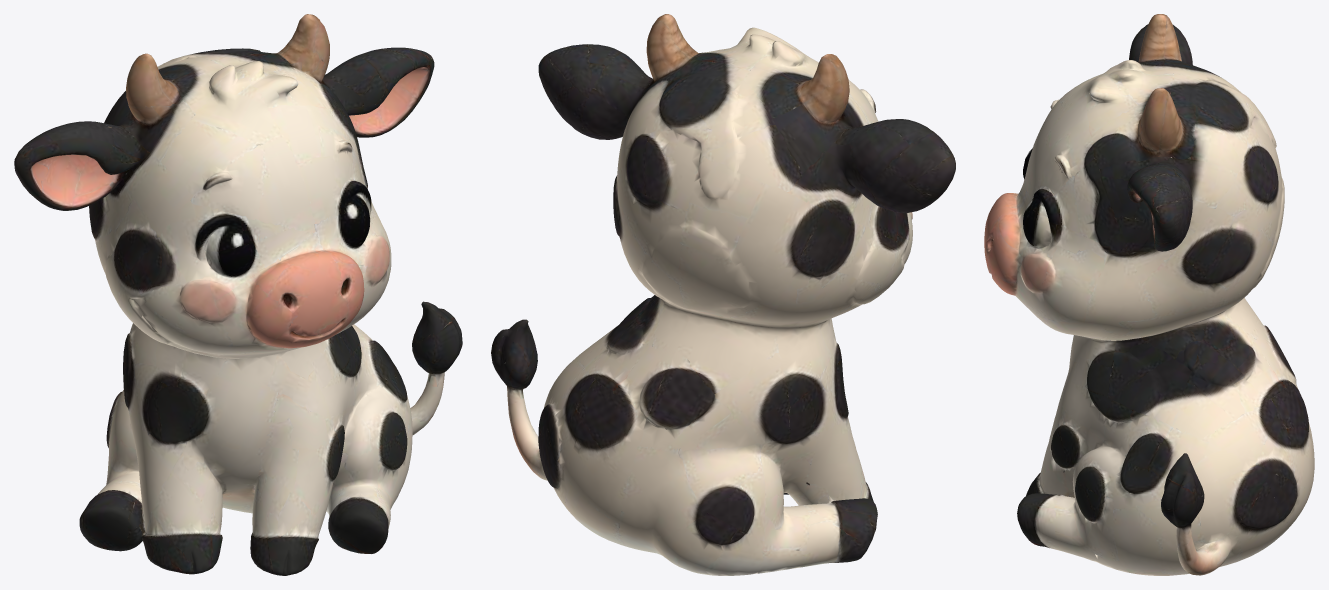
3 views of the same model, side by side, from view 1: azimuth 30°, elevation 25°; view 2: azimuth 150°, elevation 25°; view 3: azimuth 270°, elevation 25° (orthographic). The views are drawn at different scales.
Bounding box in the file's own units: 1.85 × 1.9 × 1.24.
Materials: 1 (1 with a texture image).
